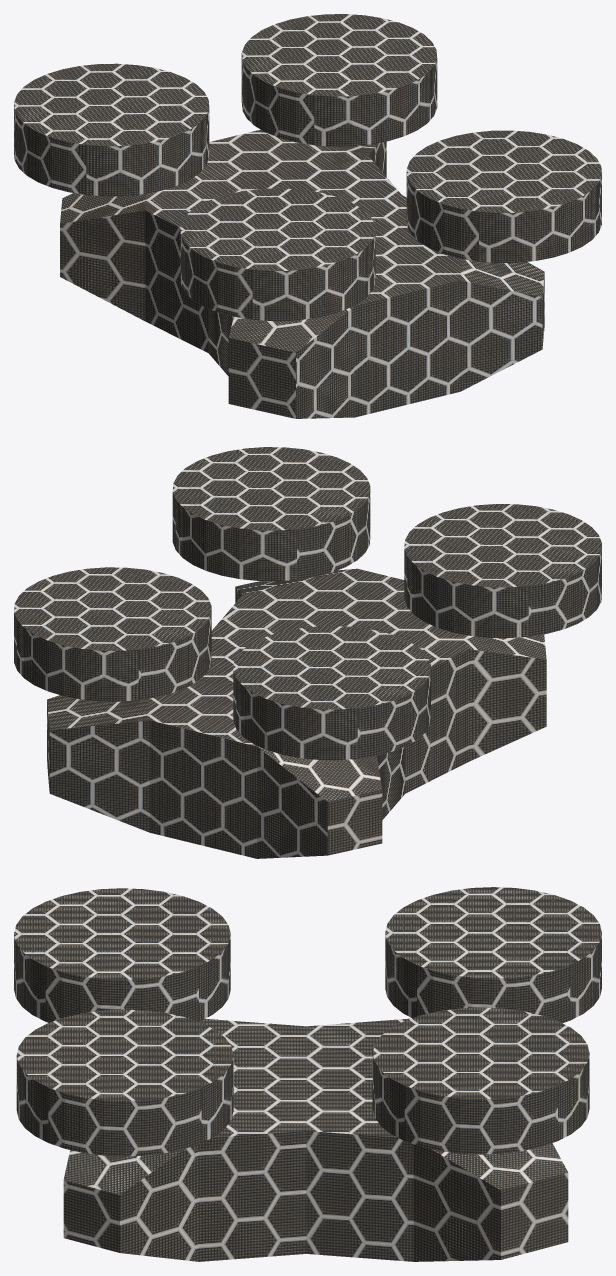
Rendered from drone.gltf.
3 renders of one model, top to bottom at view 1: azimuth 30°, elevation 25°; view 2: azimuth 150°, elevation 25°; view 3: azimuth 270°, elevation 25°, orthographic. The views are drawn at different scales.
Visible parts, largest first — view 1: Cube, Cylinder, Cylinder.002, Cylinder.003, Cylinder.001; view 2: Cube, Cylinder.003, Cylinder, Cylinder.001, Cylinder.002; view 3: Cube, Cylinder.003, Cylinder, Cylinder.002, Cylinder.001.
Boxes of the visible parts, <box> form: Cube: <box>60,130,544,418</box>; Cylinder: <box>241,14,437,146</box>; Cylinder.002: <box>180,188,375,320</box>; Cylinder.003: <box>406,130,601,262</box>; Cylinder.001: <box>14,63,209,196</box>; Cube: <box>47,568,546,858</box>; Cylinder.003: <box>172,447,370,581</box>; Cylinder: <box>14,567,211,701</box>; Cylinder.001: <box>233,626,430,760</box>; Cylinder.002: <box>404,504,601,637</box>; Cube: <box>63,1018,568,1261</box>; Cylinder.003: <box>16,1009,233,1156</box>; Cylinder: <box>372,1007,589,1154</box>; Cylinder.002: <box>14,888,230,1022</box>; Cylinder.001: <box>385,887,601,1023</box>.
Bounding box in the file's own units: 2.24 × 1.02 × 2.59.
5 materials, 5 textured.
